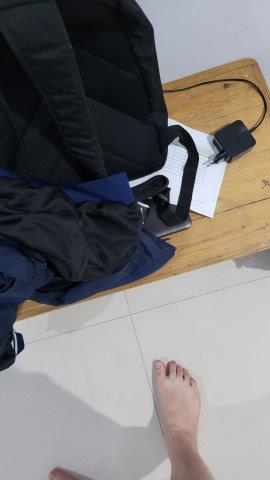kertas: (120, 114, 226, 222)
